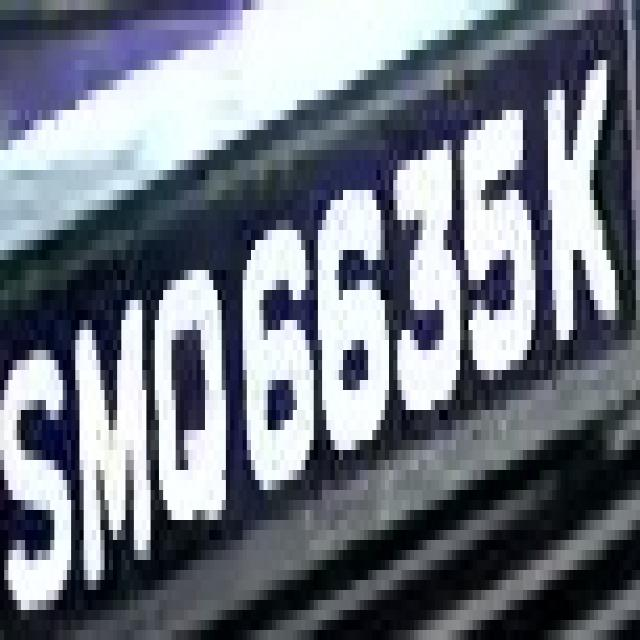3: (380, 140, 472, 430)
5: (452, 90, 535, 400)
6: (230, 200, 322, 510), (314, 160, 389, 470)
K: (536, 40, 624, 340)
M: (67, 300, 159, 600)
Q: (151, 250, 234, 560)
S: (8, 330, 71, 610)
